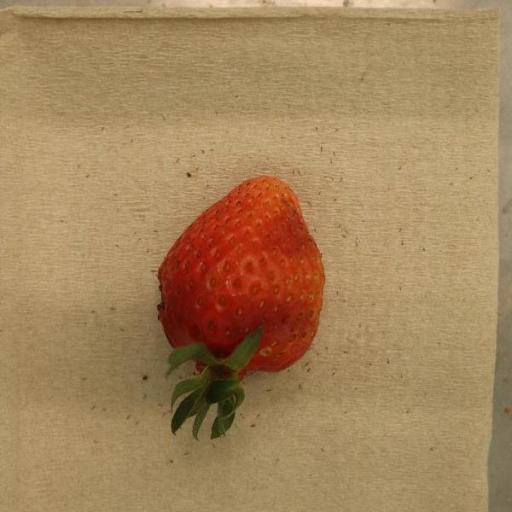Strawberry: (157, 175, 325, 441)
